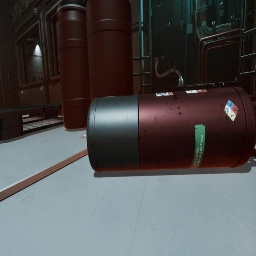NitrogenTank ,: (86, 86, 256, 172)
